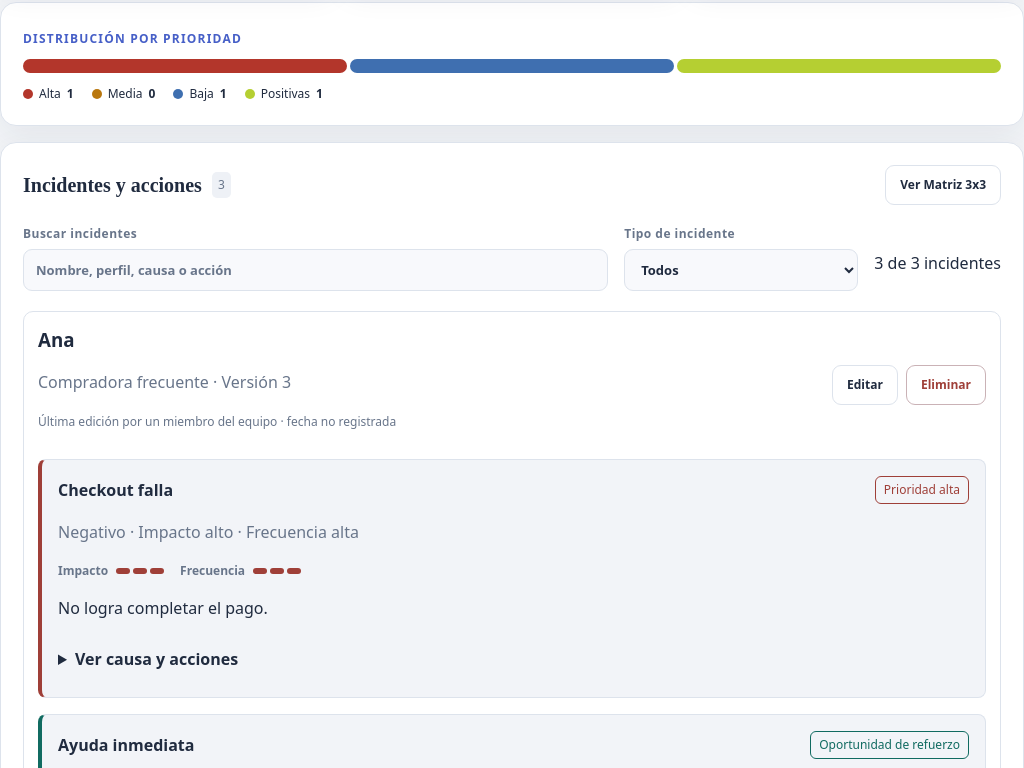
Scenario: Momentos críticos › muestra quién está editando cuando el 409 trae el nombre
(page scrolled)
Click the button "Editar" at point(865, 385), box [832,365,898,405]
(page scrolled)
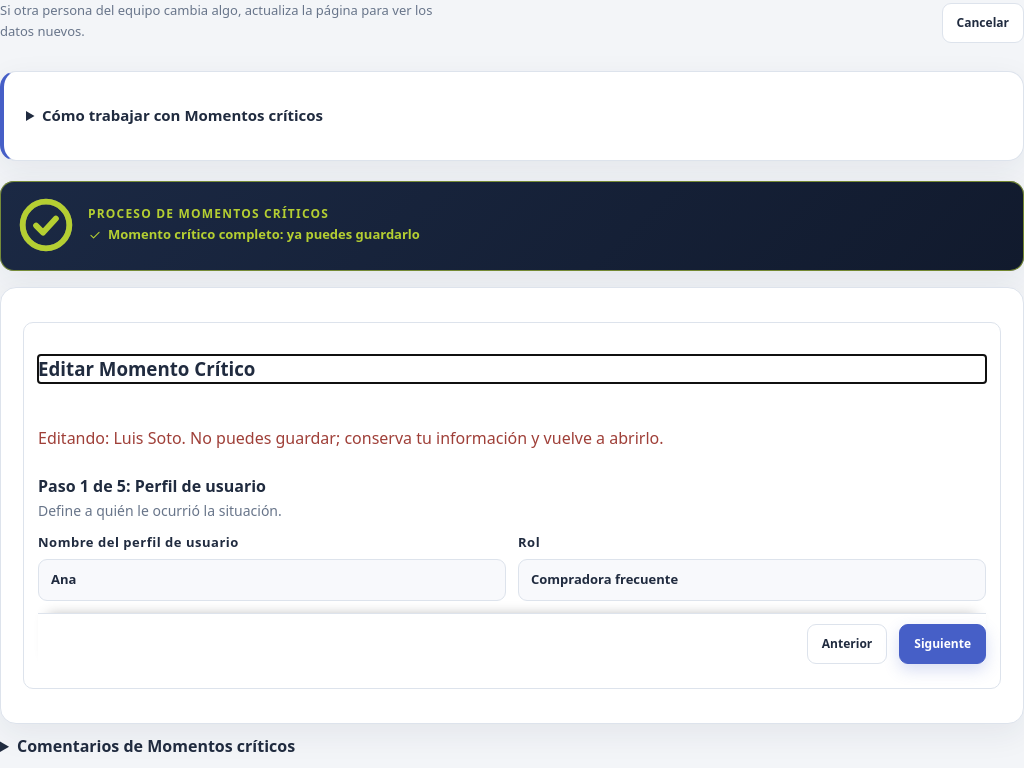
Expected: the field labelled "Nombre del perfil de usuario" is disabled, [38,559,506,601]
Expected: the text "Editando: Luis Soto." is shown, [38,427,190,449]
